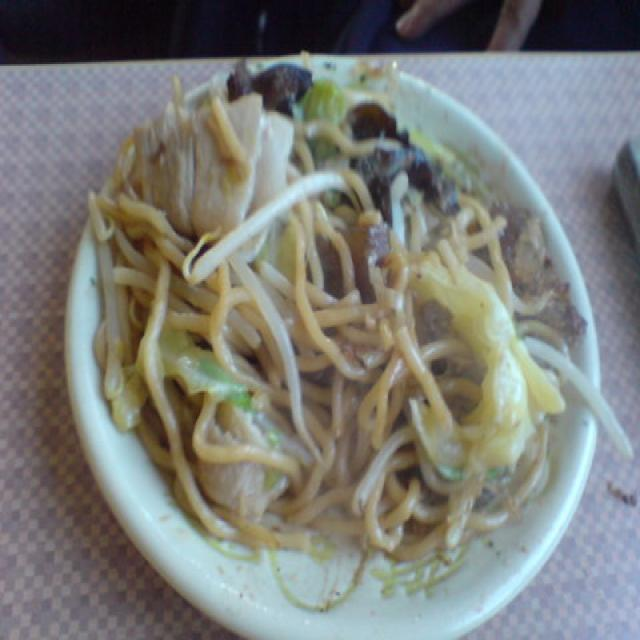面条主食: (85, 53, 608, 560)
